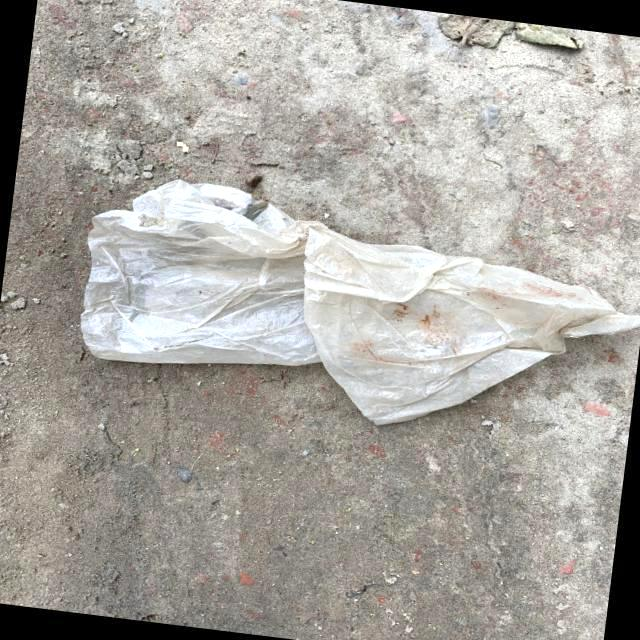polythene: (47, 164, 640, 451)
